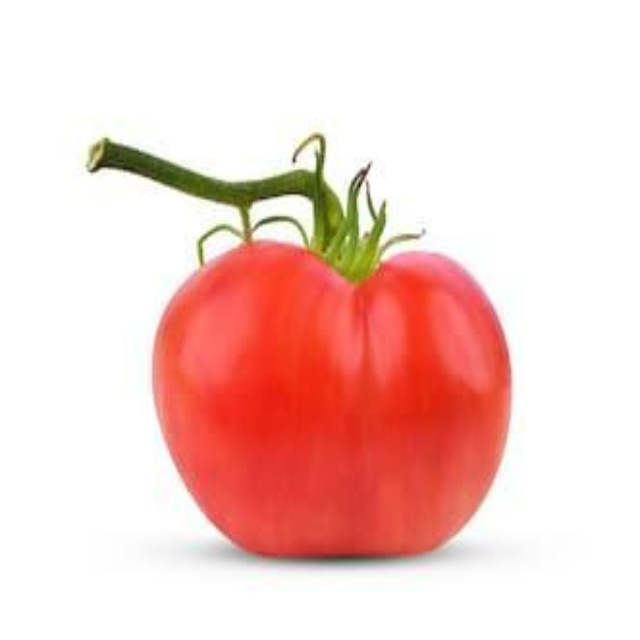tomato: (104, 144, 519, 559)
